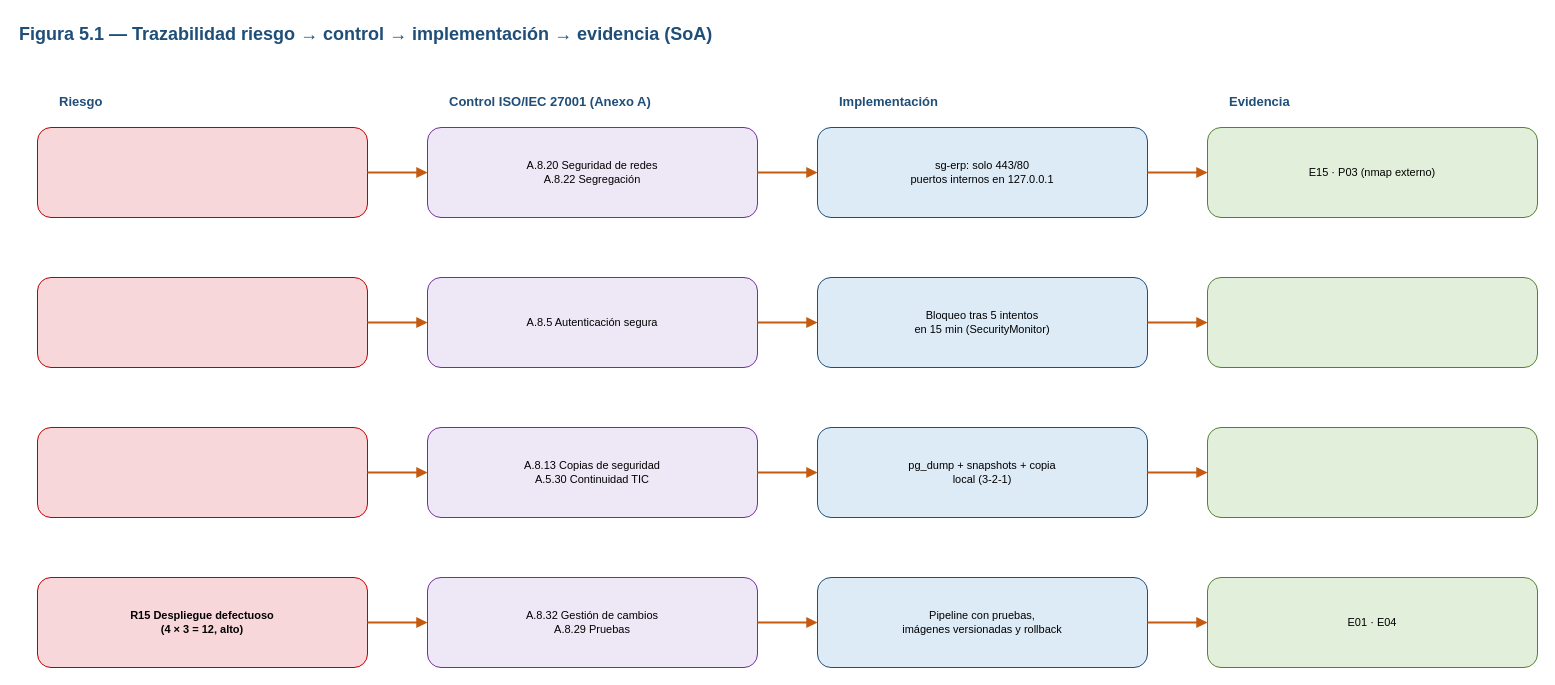
Image size: 1555x685. Some labels were removed from this diagram. The centre of each missing label's shape, as x and y in pixels:
"E03 · E11 (restauración con conteos idénticos)" goes at (x=1372, y=472).
"E06 · E07" goes at (x=1372, y=322).
"R01 Acceso directo a la base (5 × 3 = 15, alto)" goes at (x=202, y=172).
"R04 Fuerza bruta en el login (3 × 3 = 9, medio)" goes at (x=202, y=322).
"R05 Pérdida de datos (5 × 3 = 15, alto)" goes at (x=202, y=472).
